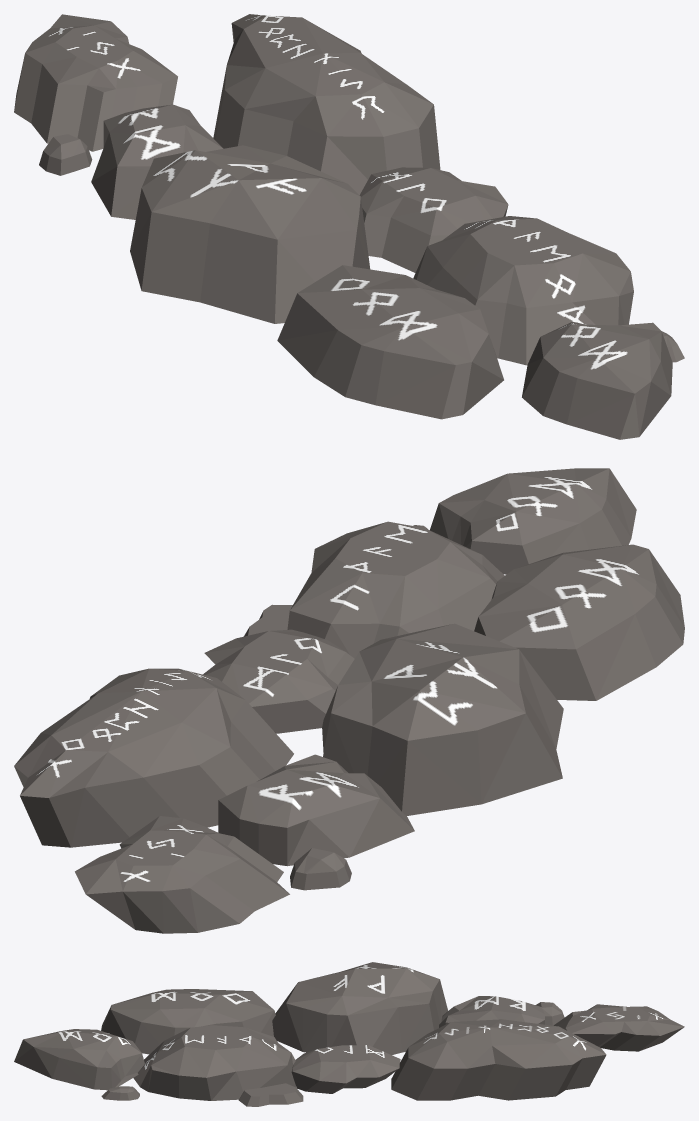
The model's file is MessegeSign.obj.
3 views of the same model, one above another, from view 1: azimuth 30°, elevation 25°; view 2: azimuth 150°, elevation 25°; view 3: azimuth 270°, elevation 25° (orthographic). The views are drawn at different scales.
Parts seen in each view (by area): view 1: Stone_立方体.008; view 2: Stone_立方体.008; view 3: Stone_立方体.008.
Part boxes in pixels (left/top/right/bottom): Stone_立方体.008: left=14, top=14, right=684, bottom=439; Stone_立方体.008: left=14, top=468, right=684, bottom=933; Stone_立方体.008: left=14, top=962, right=684, bottom=1106.
Size of the model in its own units: 1.41 by 0.3339 by 3.6.
Materials: 1 (1 with a texture image).
